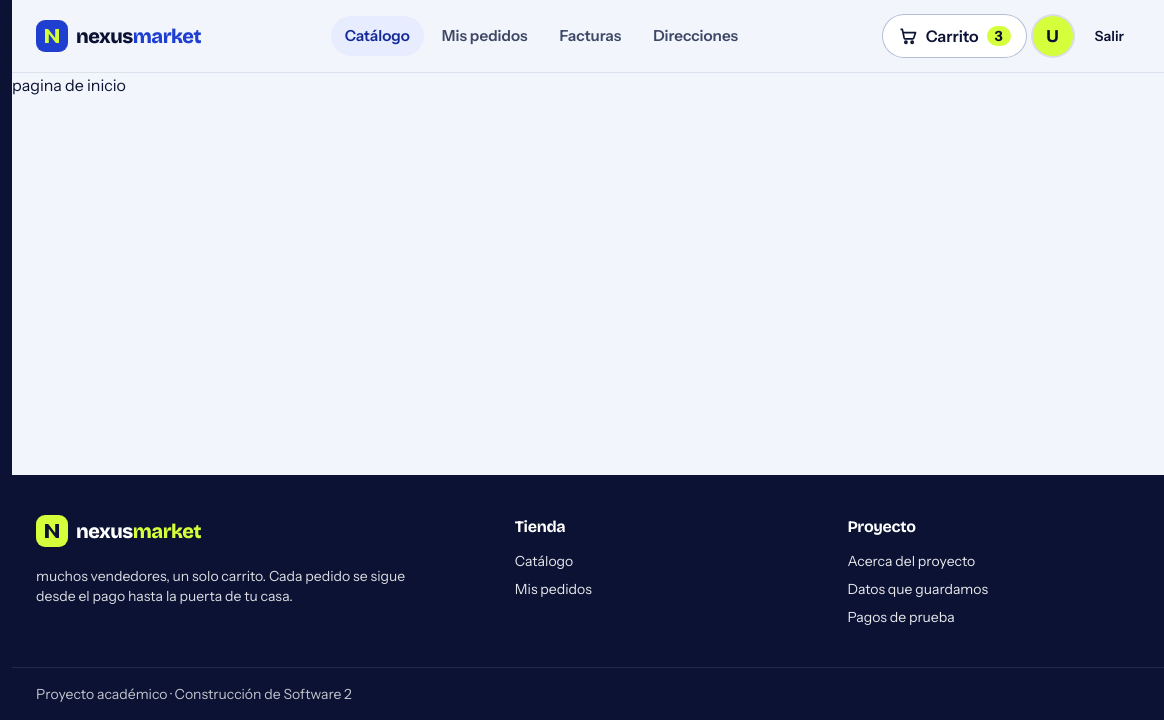
store header › goes back to the visitor header after signing out
Click the button "Salir" at (1109, 36), box [1078,16,1140,56]
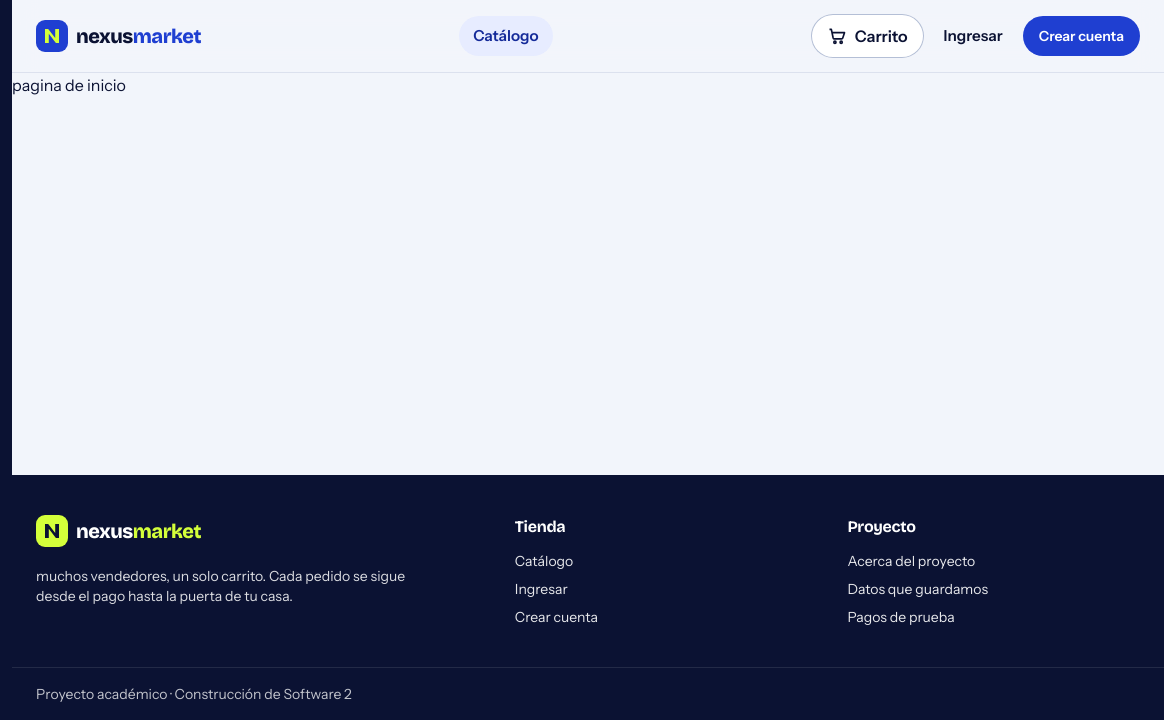
Expected: the 1st link "Crear cuenta" is shown, [1023,16,1140,56]
